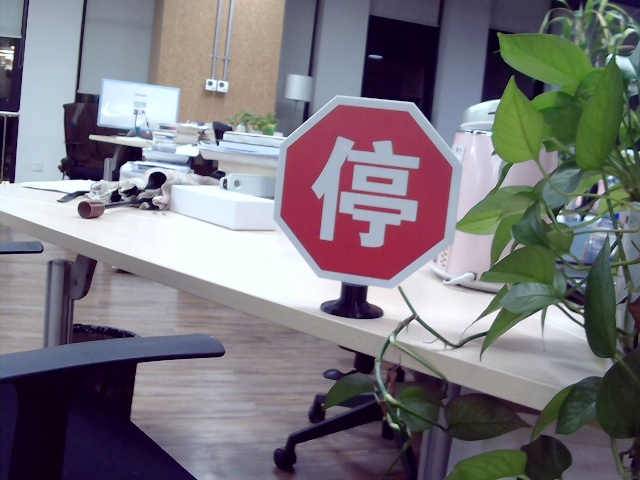stop: (311, 138, 422, 246)
